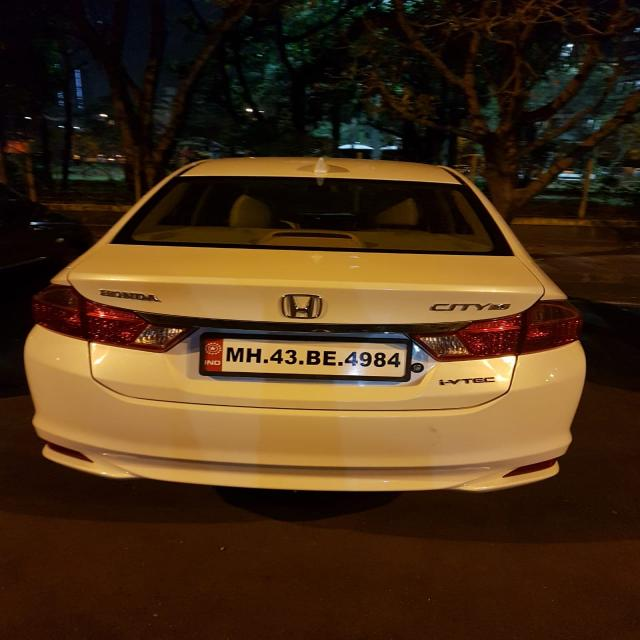Number-Plate: (206, 339, 410, 378)
